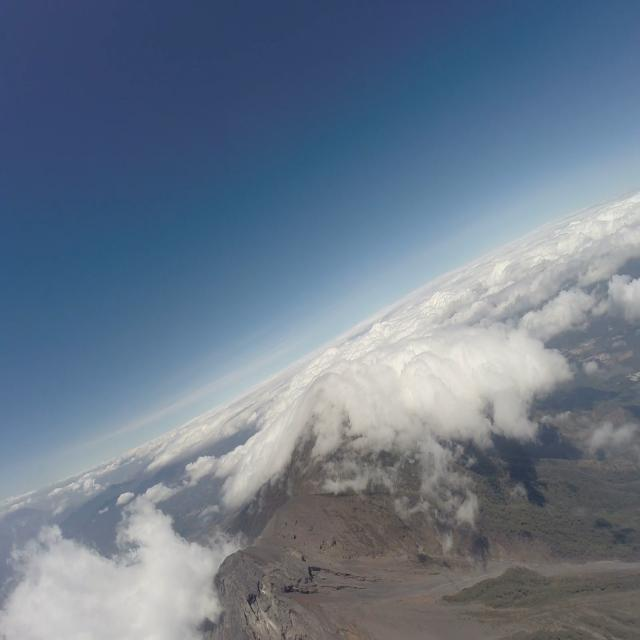Summit: (182, 523, 353, 640)
